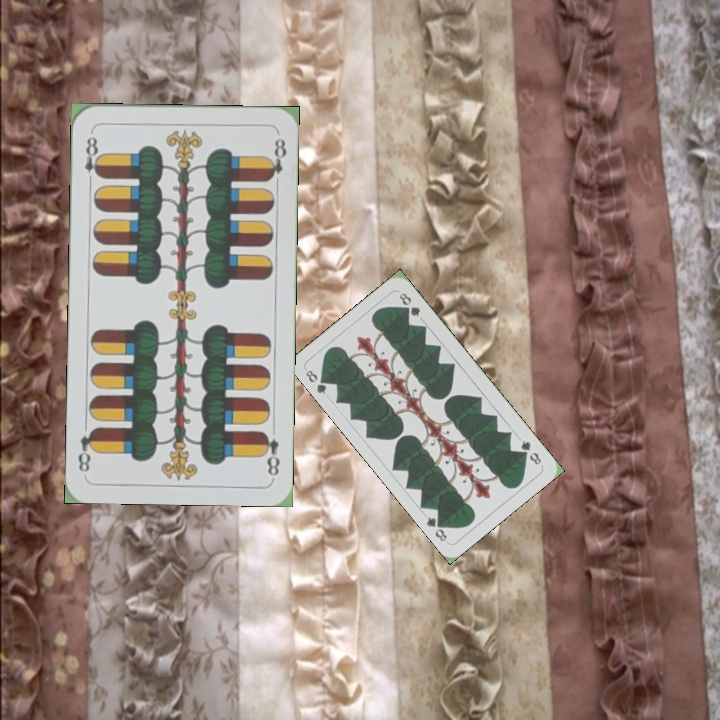E8: (81, 128, 104, 187), (258, 428, 283, 479)
G8: (301, 366, 331, 397), (516, 436, 544, 468)
